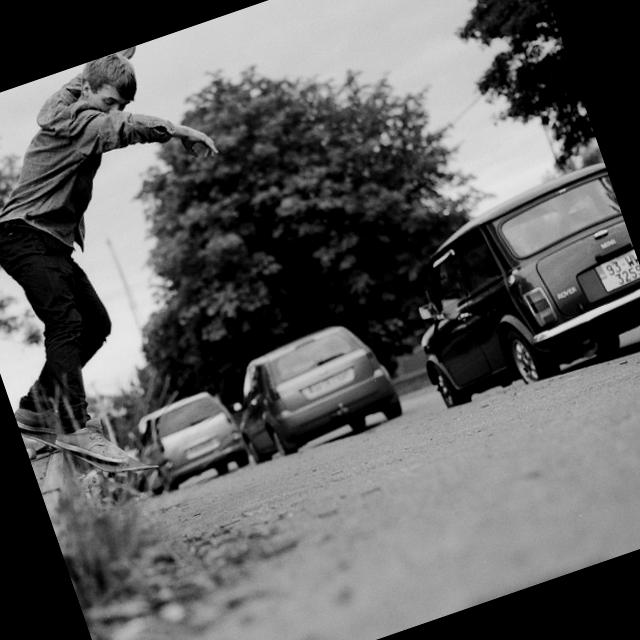Vehicle: (384, 164, 640, 416), (216, 312, 403, 467), (126, 385, 250, 497)
